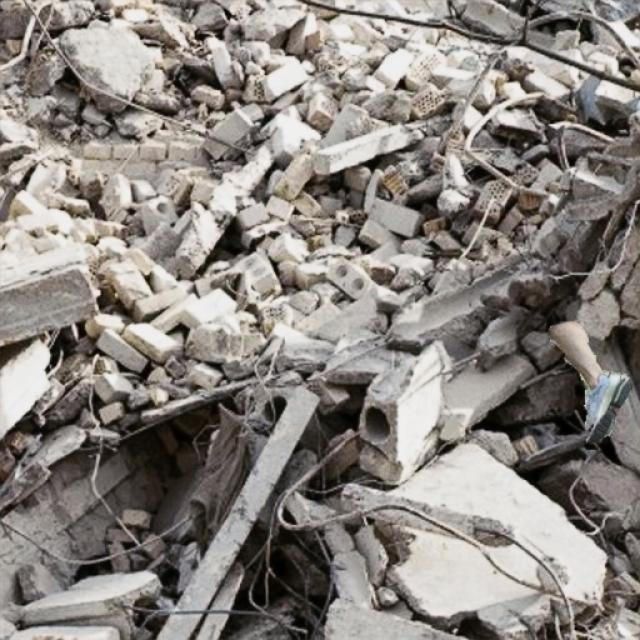Person in Rubble: (548, 321, 632, 441)
